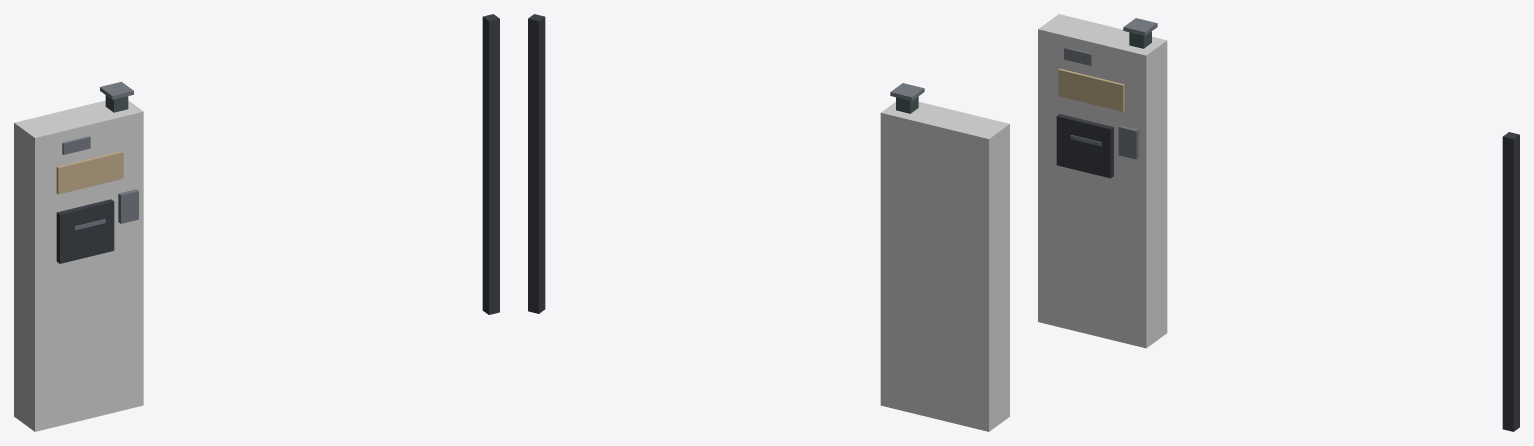
The model's file is gate_close.fbx.
3 renders of one model, left to right at view 1: azimuth 30°, elevation 25°; view 2: azimuth 150°, elevation 25°; view 3: azimuth 330°, elevation 25°, orthographic.
Parts seen in each view (by area): view 1: a2000/800/gate_close; view 2: a2000/800/gate_close; view 3: a2000/800/gate_close.
Boxes of the visible parts, x1,y1,x2,y2 form: a2000/800/gate_close: (14, 14, 499, 431); a2000/800/gate_close: (528, 14, 1009, 431); a2000/800/gate_close: (1038, 14, 1519, 431).
Size of the model in its own units: 2.6 by 1.65 by 0.235.
